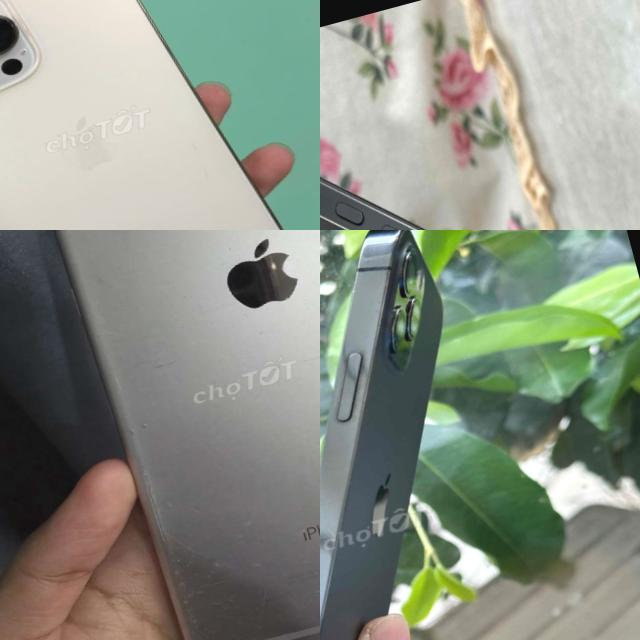scratch: (105, 393, 226, 640), (189, 482, 320, 636), (297, 419, 320, 477)
